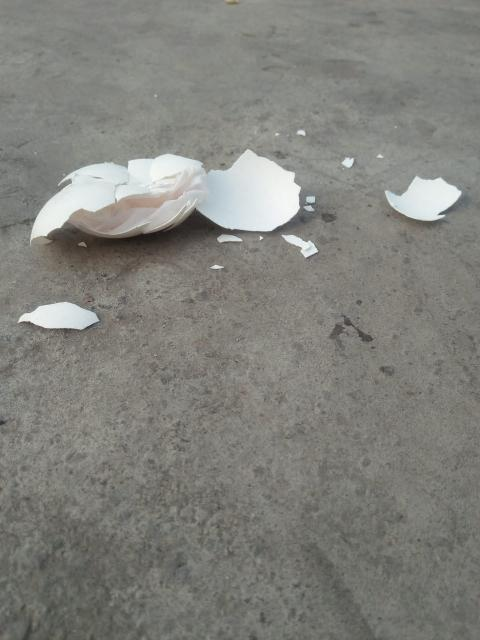Roto: (29, 152, 209, 246), (195, 148, 302, 232), (384, 174, 462, 222), (17, 300, 100, 331)
